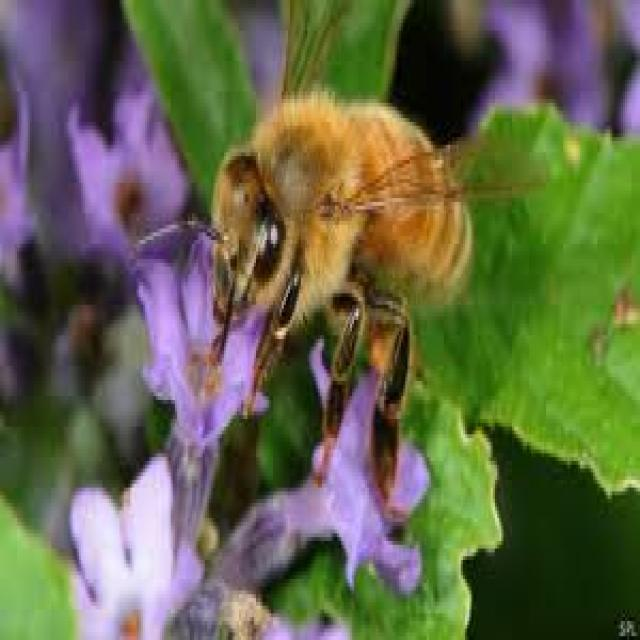Bees: (144, 2, 547, 504)
